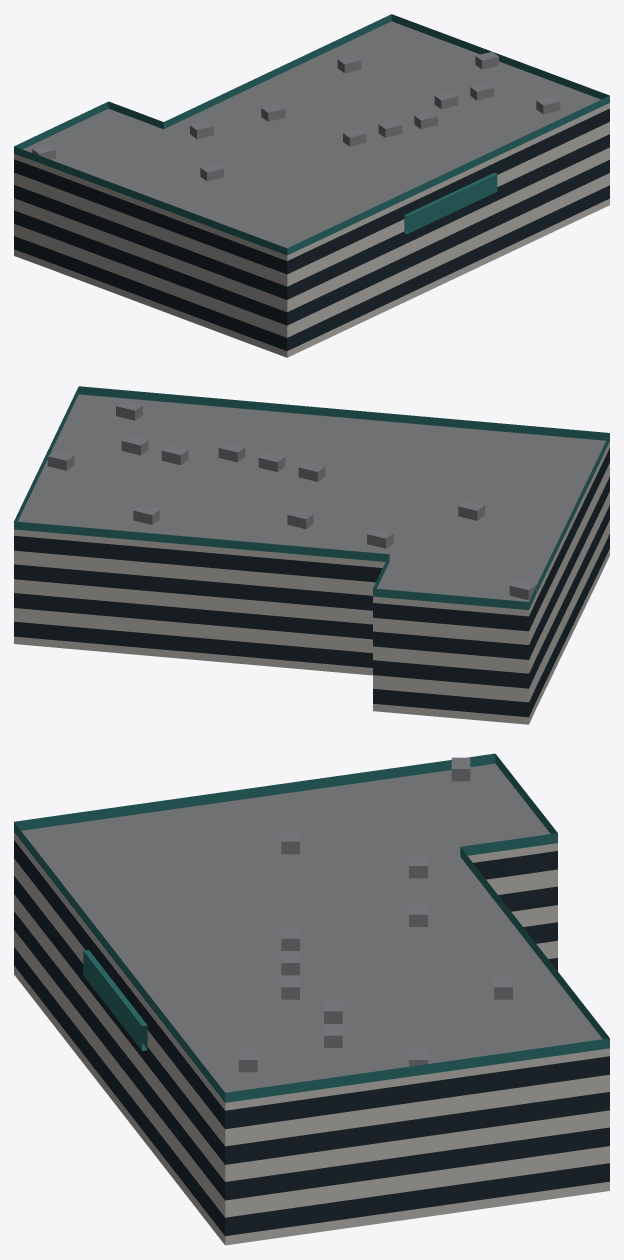
The model's file is plaza-citra-lod0.glb.
3 renders of one model, top to bottom at view 1: azimuth 30°, elevation 25°; view 2: azimuth 150°, elevation 25°; view 3: azimuth 270°, elevation 25°, orthographic. The views are drawn at different scales.
Parts seen in each view (by area): view 1: plaza-citra_LOD0; view 2: plaza-citra_LOD0; view 3: plaza-citra_LOD0.
Part boxes in pixels (<box>): plaza-citra_LOD0: <box>14,14,609,357</box>; plaza-citra_LOD0: <box>14,386,609,724</box>; plaza-citra_LOD0: <box>14,753,609,1245</box>.
Bounding box in the file's own units: 93.9 × 20 × 69.7.
